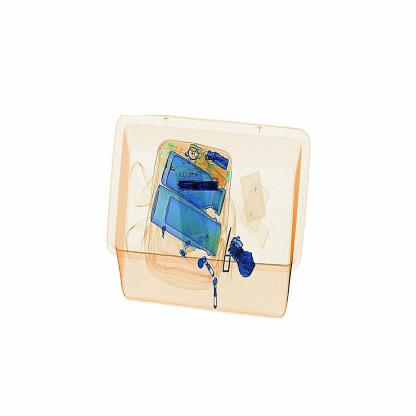scissors: (168, 167, 223, 202)
